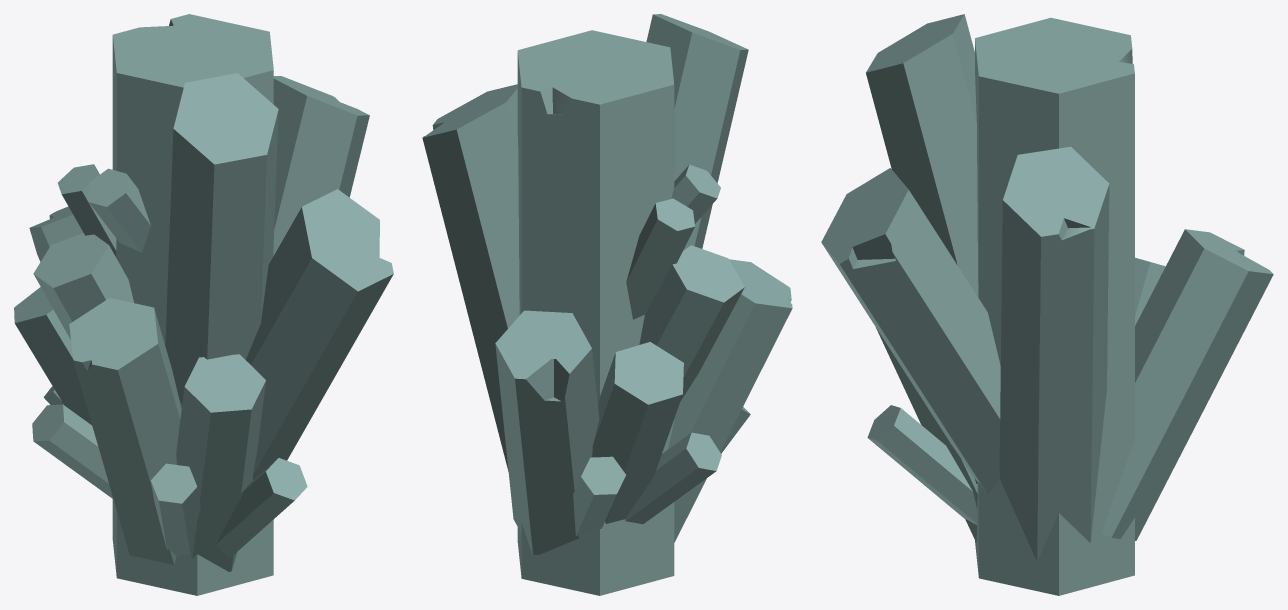
Rendered from Crystal.fbx.
The picture shows the model from 3 angles, left to right: view 1: azimuth 30°, elevation 25°; view 2: azimuth 150°, elevation 25°; view 3: azimuth 270°, elevation 25°; orthographic projection. The views are drawn at different scales.
Visible parts, largest first — view 1: pCylinder14; view 2: pCylinder14; view 3: pCylinder14.
Part boxes in pixels (x1,y1,x2,y2): pCylinder14: (14,14,393,595); pCylinder14: (422,14,792,595); pCylinder14: (821,14,1273,595).
Size of the model in its own units: 0.3908 by 0.6079 by 0.4659.
